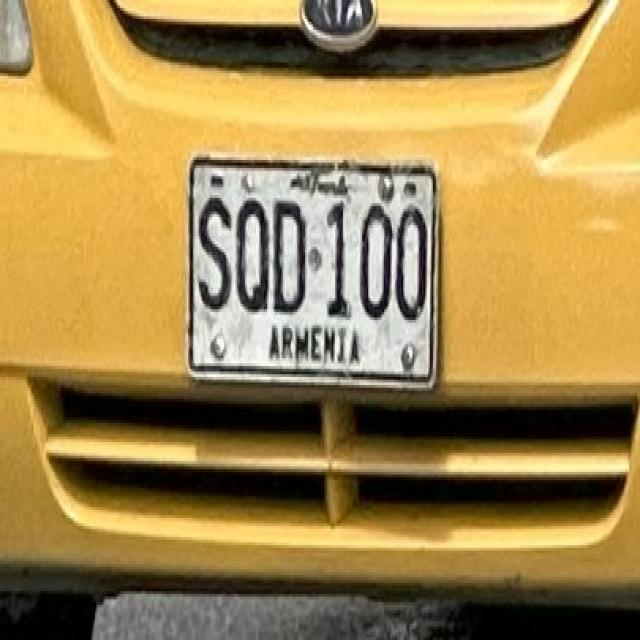number plate: (188, 157, 435, 382)
